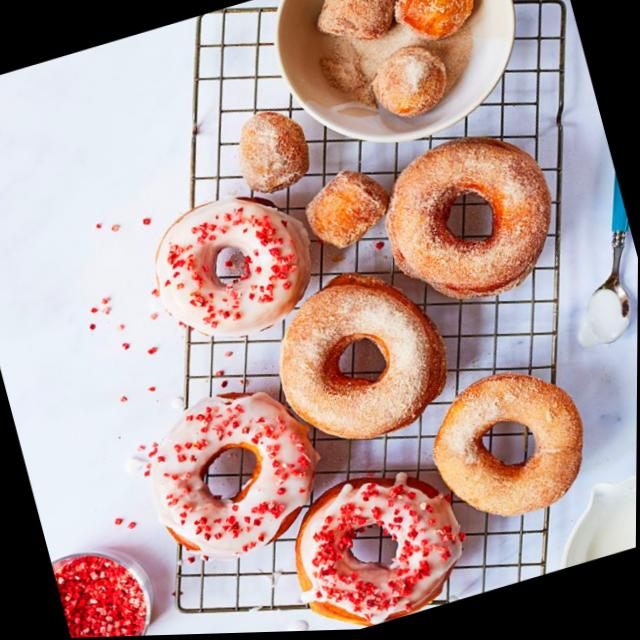donut: (127, 374, 337, 576), (257, 257, 459, 463), (366, 120, 568, 320), (275, 455, 477, 634), (413, 354, 603, 542), (138, 181, 322, 358)
